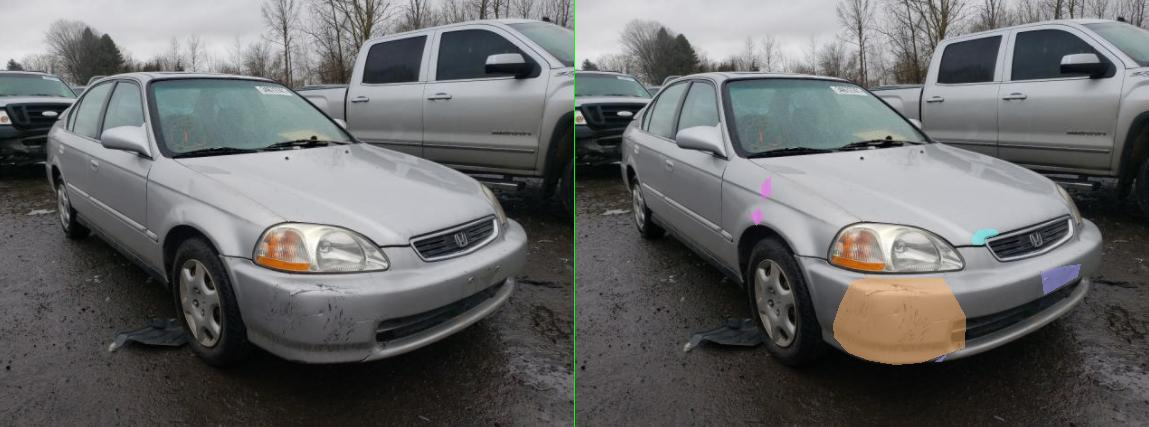Dent: (350, 207, 376, 225), (372, 176, 390, 199)
Flaking: (795, 229, 847, 244)
Paint chip: (516, 277, 781, 364)
Scratch: (933, 264, 1011, 294), (579, 290, 657, 299), (601, 313, 651, 321), (715, 318, 751, 324), (721, 353, 745, 361)
